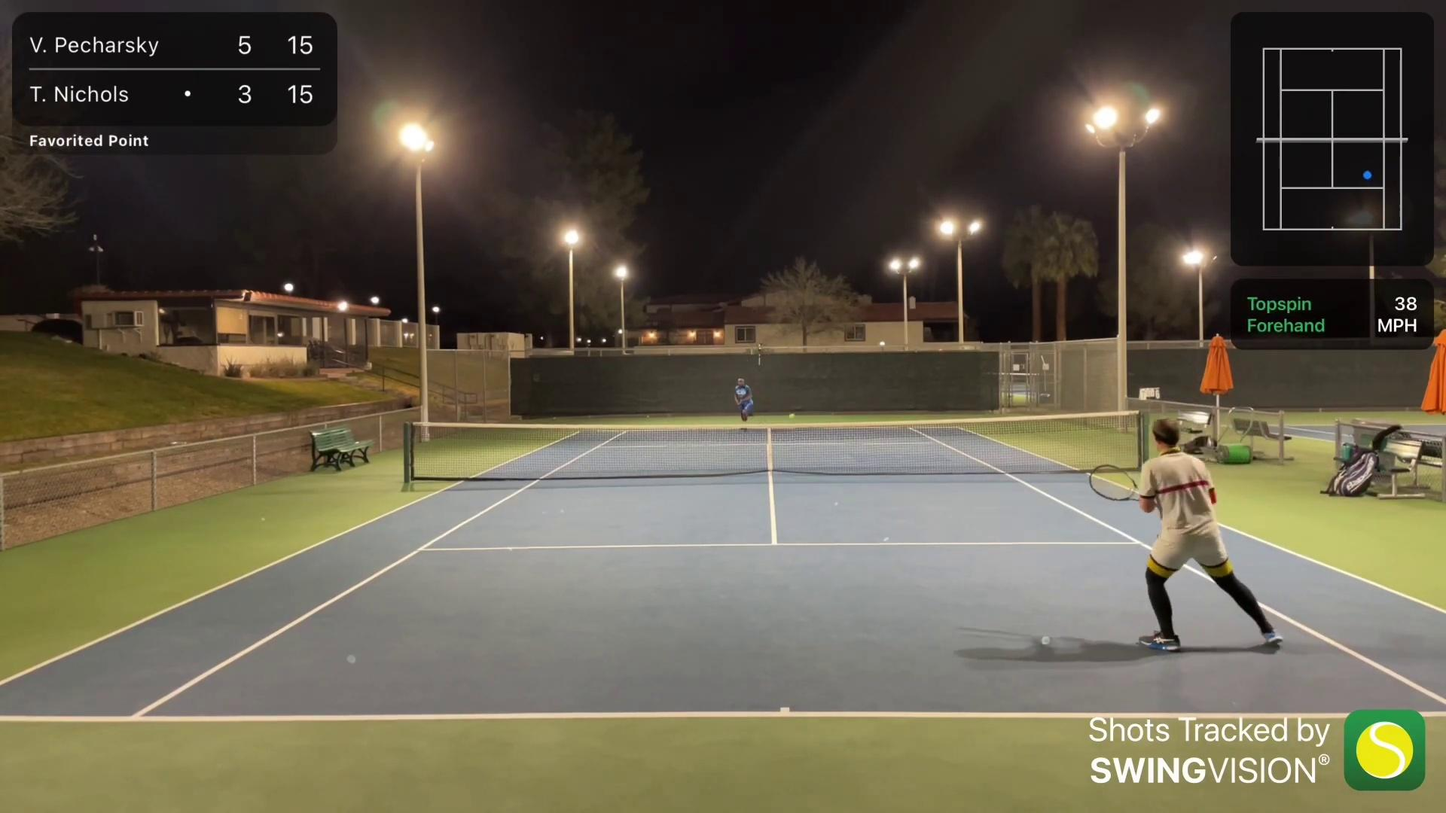ball: (785, 408, 799, 423)
